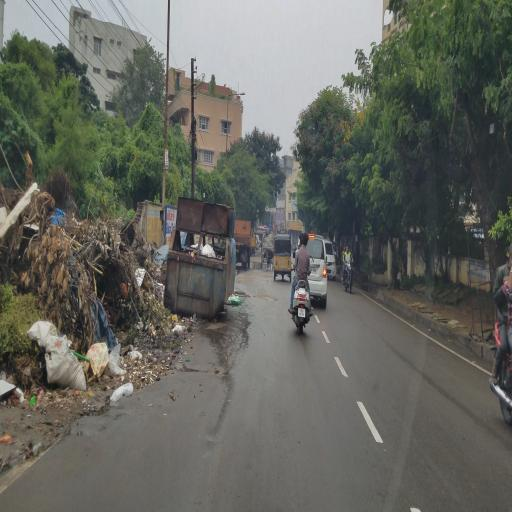street_light_0: (228, 78, 250, 110)
